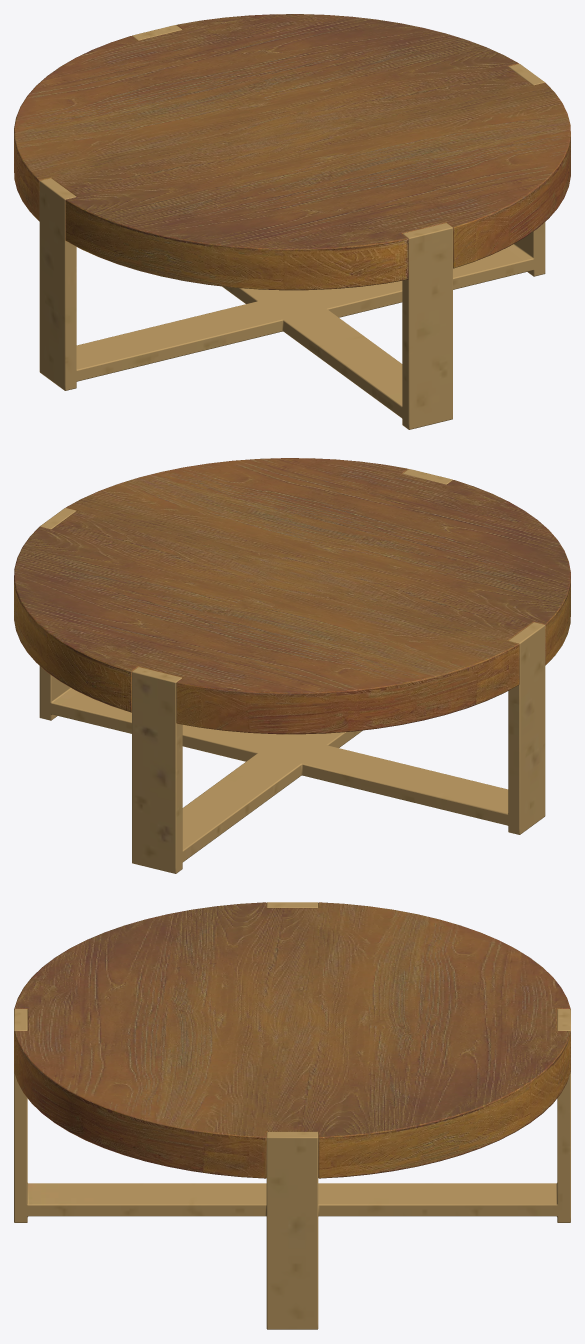
The model's file is abo-B07QFB1TLZ.glb.
3 views of the same model, one above another, from view 1: azimuth 30°, elevation 25°; view 2: azimuth 150°, elevation 25°; view 3: azimuth 270°, elevation 25° (orthographic).
Size of the model in its own units: 1.1 by 0.42 by 1.1.
1 material, 1 textured.
